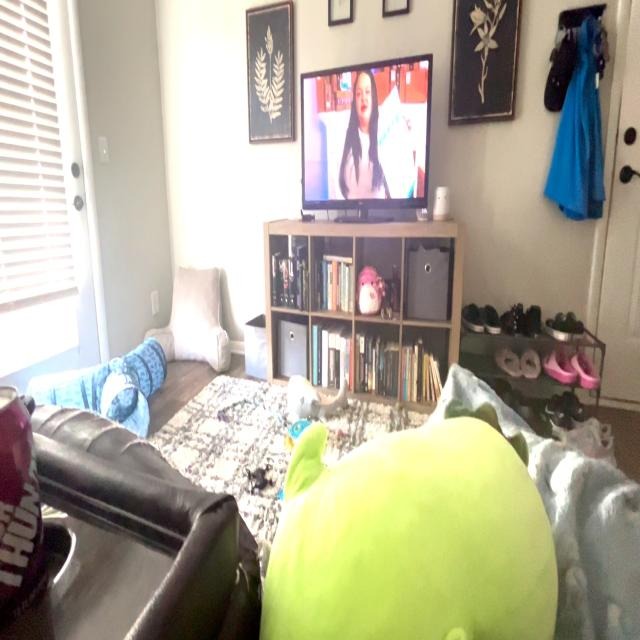drone: (235, 450, 288, 506)
